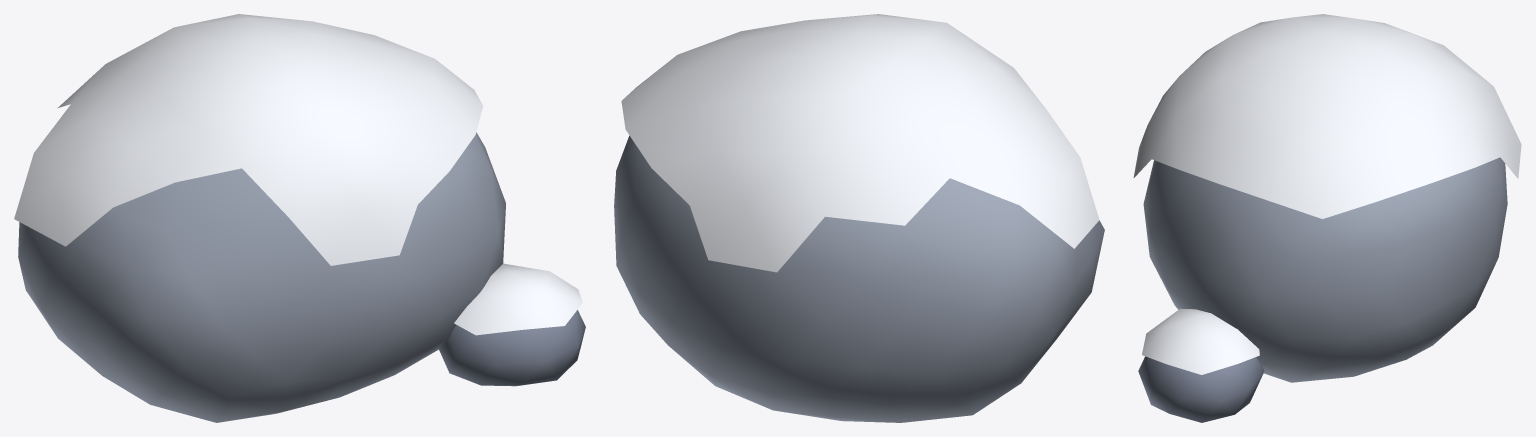
Rendered from snow_rock.glb.
The picture shows the model from 3 angles, left to right: view 1: azimuth 30°, elevation 25°; view 2: azimuth 150°, elevation 25°; view 3: azimuth 270°, elevation 25°; orthographic projection. The views are drawn at different scales.
Visible parts, largest first — view 1: snow_rock; view 2: snow_rock; view 3: snow_rock.
Boxes of the visible parts, x1=… form: snow_rock: x1=14, y1=14, x2=585, y2=422; snow_rock: x1=614, y1=14, x2=1104, y2=422; snow_rock: x1=1133, y1=14, x2=1521, y2=422.
Size of the model in its own units: 2.22 by 1.48 by 1.76.
